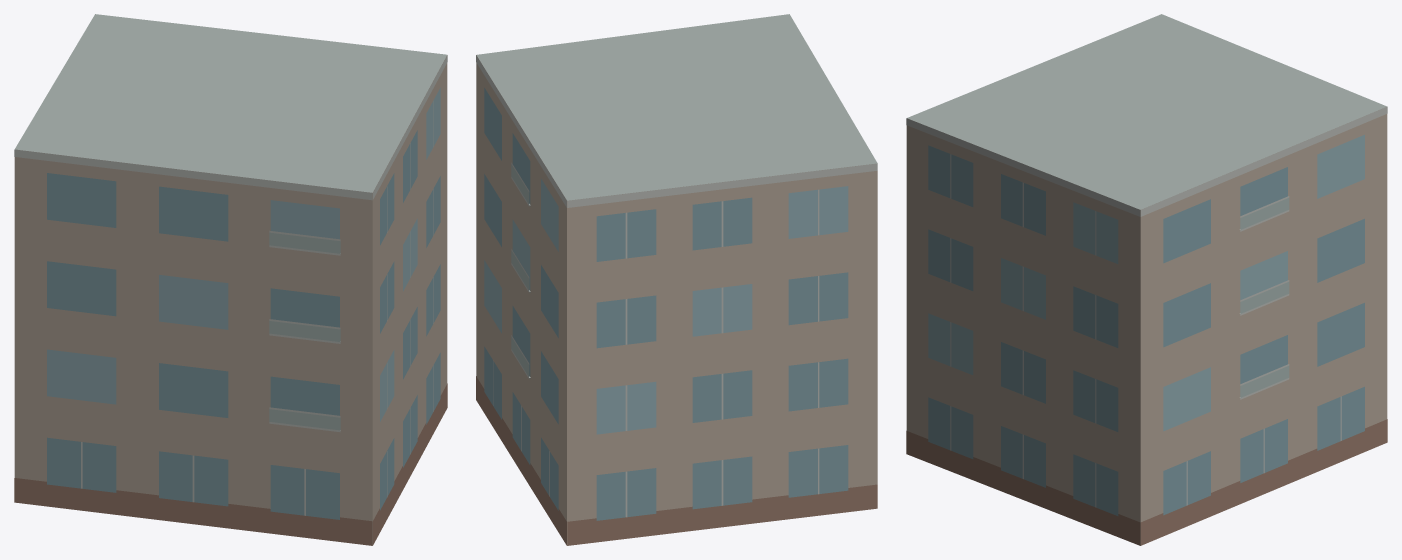
File: survey-upis-33027112.glb
3 renders of one model, left to right at view 1: azimuth 30°, elevation 25°; view 2: azimuth 150°, elevation 25°; view 3: azimuth 270°, elevation 25°, orthographic. The views are drawn at different scales.
Parts seen in each view (by area): view 1: survey-upis-33027112.tmp; view 2: survey-upis-33027112.tmp; view 3: survey-upis-33027112.tmp.
Boxes of the visible parts, left/top/right/bottom form: survey-upis-33027112.tmp: left=14, top=14, right=447, bottom=545; survey-upis-33027112.tmp: left=476, top=14, right=877, bottom=545; survey-upis-33027112.tmp: left=906, top=14, right=1387, bottom=545.
Bounding box in the file's own units: 14.39 × 11.5 × 14.92.
